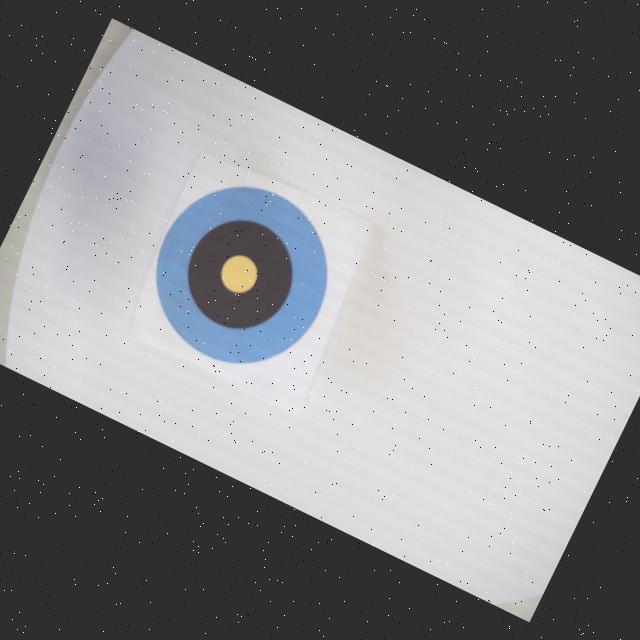COGNITIVE: (126, 158, 357, 392)
